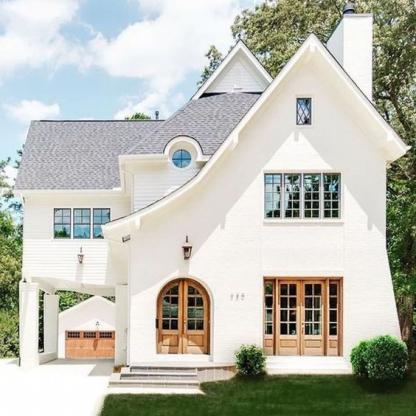Building Outline: (13, 4, 412, 388)
Door: (156, 277, 210, 355), (278, 280, 325, 356), (66, 331, 115, 359)
Facade: (13, 4, 413, 388)
Floor Slab: (131, 249, 386, 257)
Pillar: (20, 283, 39, 370), (115, 283, 128, 370), (43, 294, 58, 357)
Roof: (13, 91, 263, 191)
Sill: (263, 220, 345, 223)
Window: (322, 174, 340, 219), (303, 174, 321, 219), (265, 174, 282, 219), (284, 174, 301, 219), (93, 209, 110, 238), (54, 209, 71, 238), (73, 209, 90, 238), (329, 283, 338, 336), (264, 282, 273, 335), (297, 98, 312, 125)
